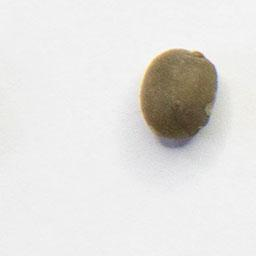peaberry: (136, 46, 221, 144)
